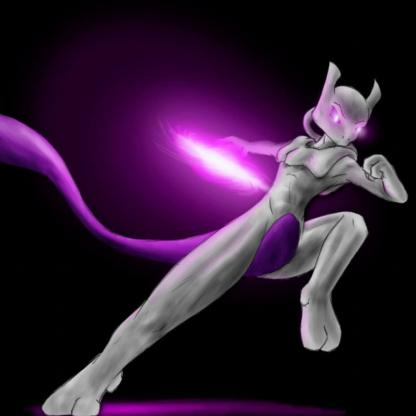Mewtwo: (1, 17, 416, 416)
